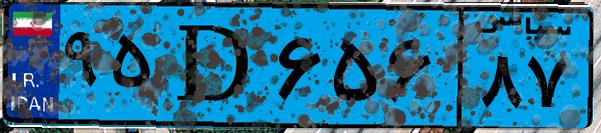5: (330, 28, 385, 110), (110, 28, 158, 98)
6: (270, 28, 330, 110), (385, 28, 445, 110)
7: (525, 38, 570, 115)
8: (475, 38, 525, 113)
9: (57, 26, 110, 100)
D: (158, 12, 270, 120)
